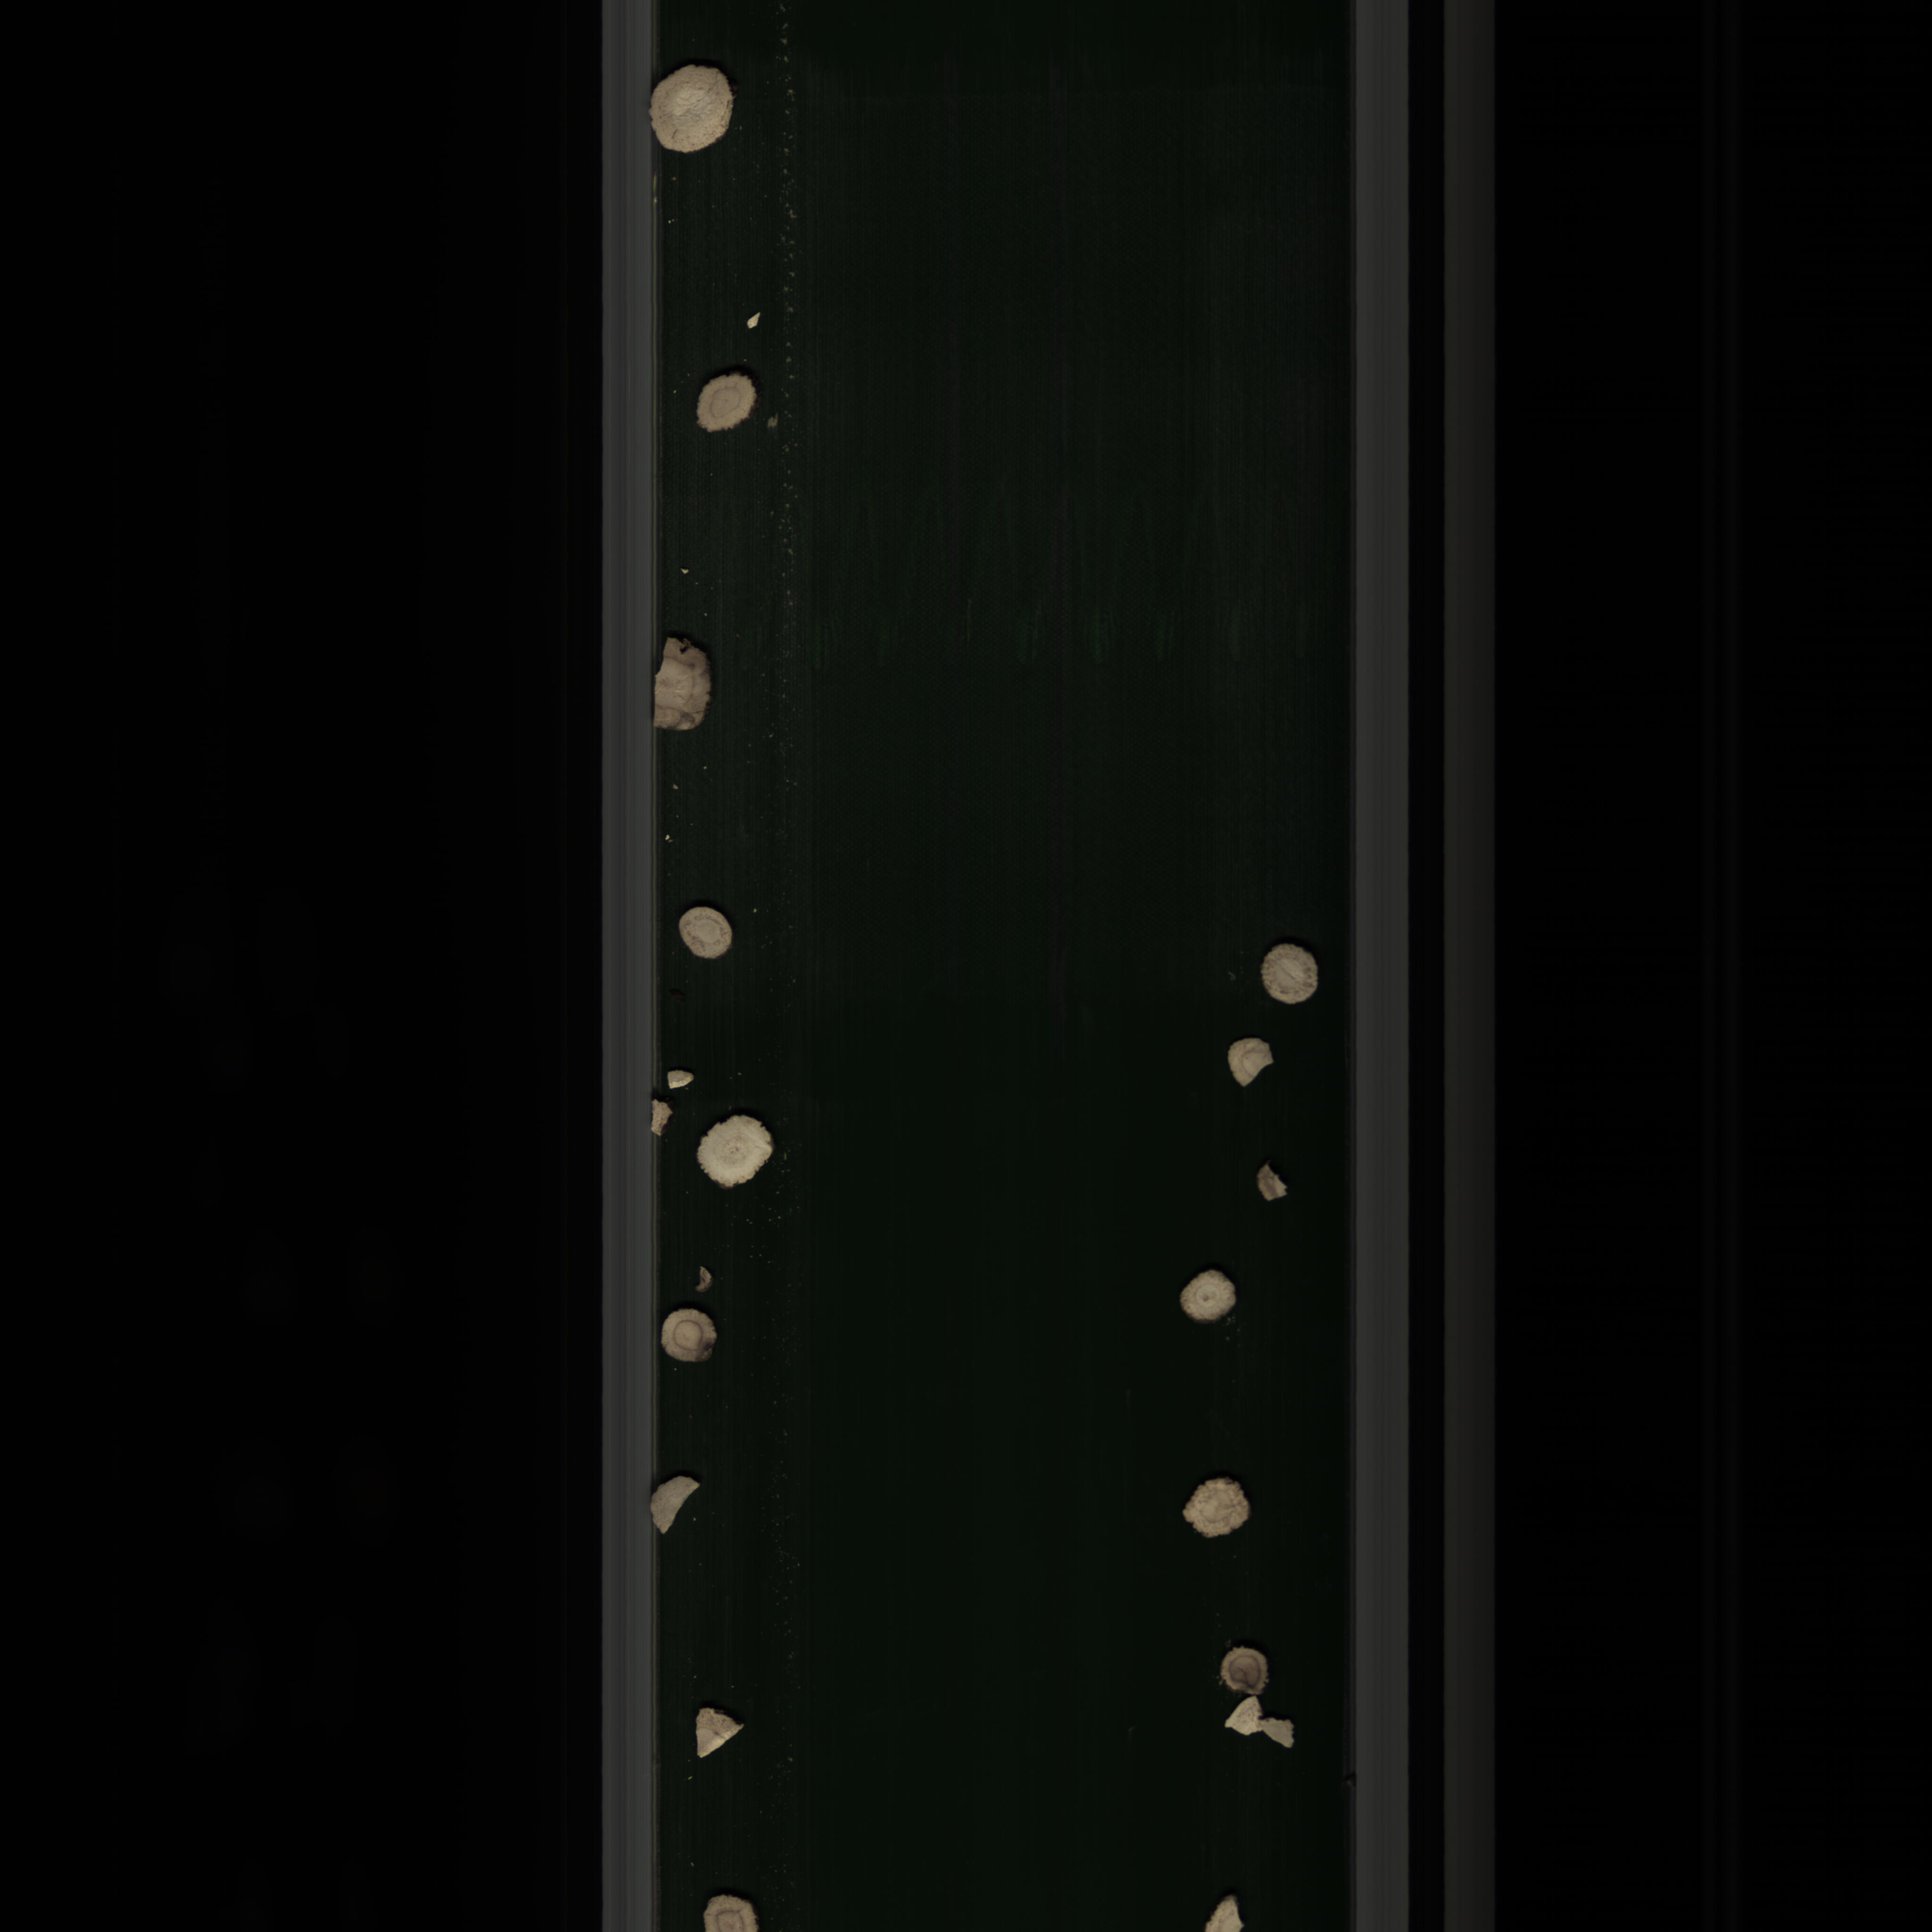debris: (653, 628, 727, 743), (1224, 1693, 1311, 1759), (686, 1695, 757, 1767), (651, 1468, 715, 1539), (1219, 1028, 1281, 1088), (651, 1072, 706, 1139), (1246, 1157, 1295, 1214)
moldy: (1212, 1635, 1279, 1697)
